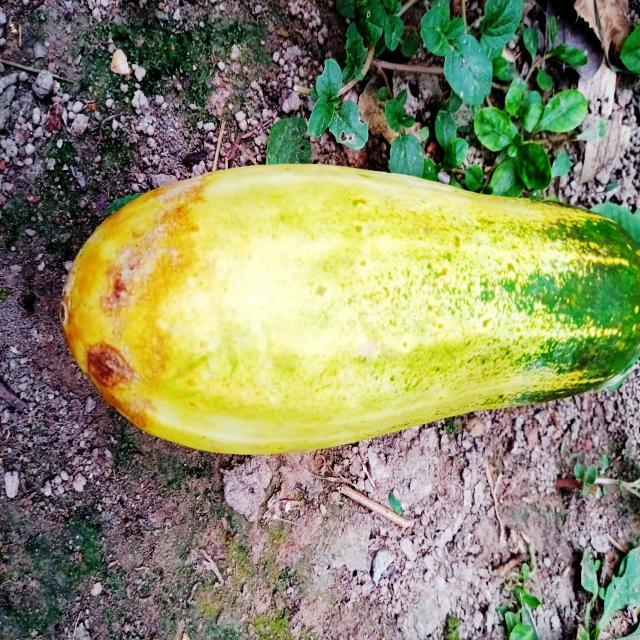Belly-Rot: (82, 168, 214, 440)
